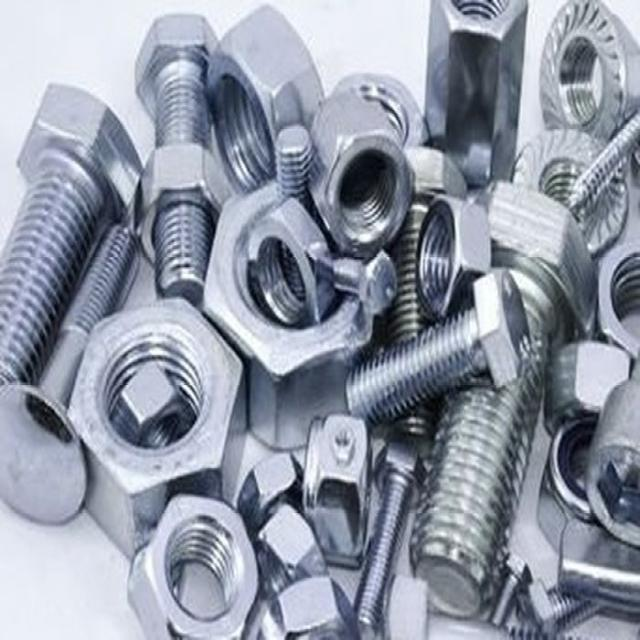Logam: (41, 53, 617, 640)
